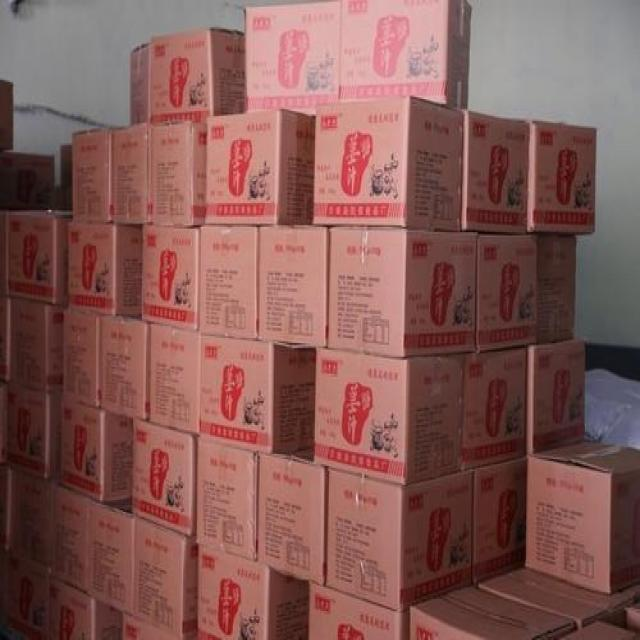box: (325, 464, 473, 610), (312, 340, 462, 482), (310, 94, 462, 230), (326, 229, 472, 359), (523, 440, 640, 602), (194, 330, 314, 456), (339, 0, 466, 111), (205, 113, 312, 225), (196, 546, 304, 640), (244, 4, 342, 106), (256, 452, 328, 582), (151, 31, 244, 125), (258, 224, 332, 340), (469, 225, 536, 353), (131, 415, 202, 535), (460, 348, 528, 472), (194, 429, 260, 556), (528, 117, 596, 232), (133, 516, 194, 640), (462, 114, 527, 230), (196, 224, 258, 342), (62, 398, 132, 502), (64, 222, 139, 318), (526, 336, 588, 449), (136, 216, 197, 330), (144, 316, 200, 440), (148, 118, 206, 232), (0, 210, 66, 303), (98, 308, 152, 418), (9, 292, 65, 396), (90, 504, 139, 612), (57, 302, 104, 406), (55, 481, 97, 592), (6, 392, 61, 472), (70, 125, 115, 219), (114, 119, 150, 222)
